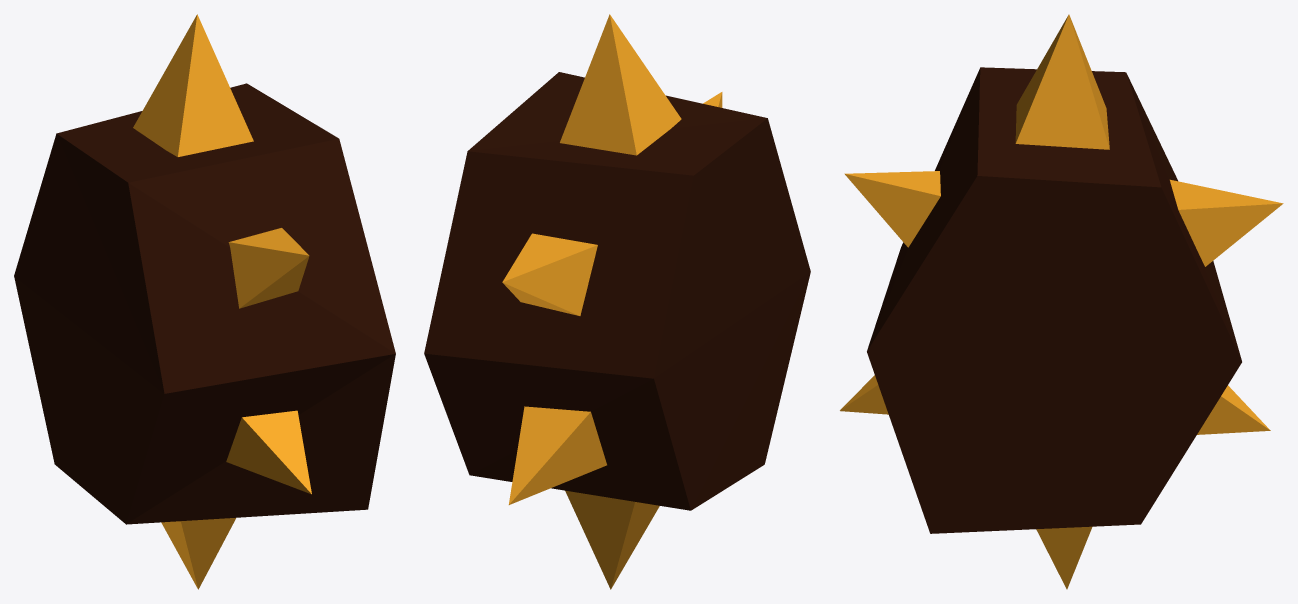
Rendered from Bracer 07.FBX.
The picture shows the model from 3 angles, left to right: view 1: azimuth 30°, elevation 25°; view 2: azimuth 150°, elevation 25°; view 3: azimuth 270°, elevation 25°; orthographic projection.
Visible parts, largest first — view 1: Bracer 07; view 2: Bracer 07; view 3: Bracer 07.
Part boxes in pixels (left/top/right/bottom): Bracer 07: left=14, top=14, right=395, bottom=589; Bracer 07: left=424, top=14, right=810, bottom=589; Bracer 07: left=840, top=14, right=1283, bottom=589.
Bounding box in the file's own units: 5.35 × 13.33 × 9.32.
Materials: 1 (1 with a texture image).
